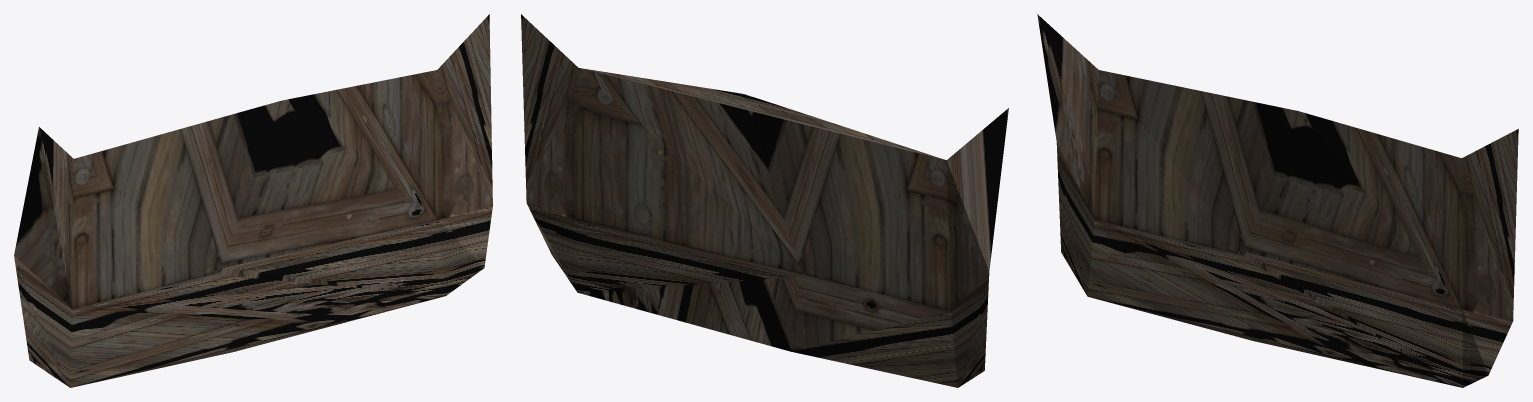
The model's file is westfall_fence_lod2.glb.
3 views of the same model, side by side, from view 1: azimuth 30°, elevation 25°; view 2: azimuth 150°, elevation 25°; view 3: azimuth 330°, elevation 25° (orthographic).
Visible parts, largest first — view 1: geometry_0; view 2: geometry_0; view 3: geometry_0.
Boxes of the visible parts, bbox=[...] form: geometry_0: bbox=[14, 14, 492, 387]; geometry_0: bbox=[521, 14, 1008, 387]; geometry_0: bbox=[1037, 14, 1518, 387].
Size of the model in its own units: 2.67 by 1.54 by 0.2191.
1 material, 1 textured.
